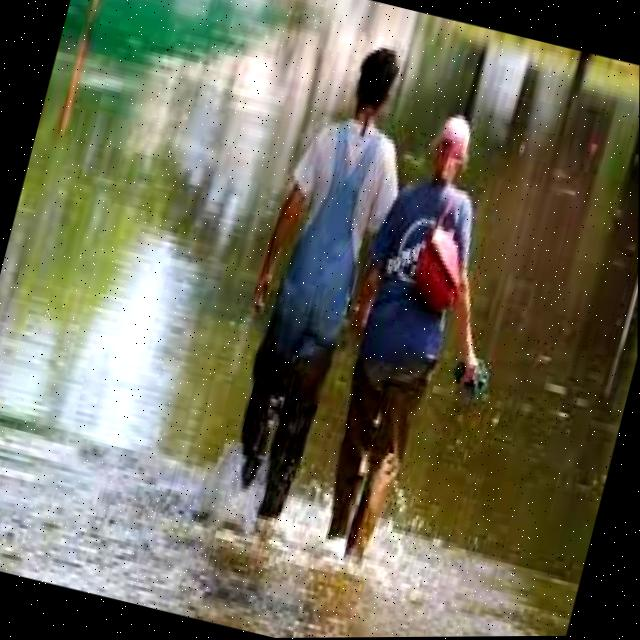civilian: (302, 99, 553, 587), (196, 27, 433, 543)
